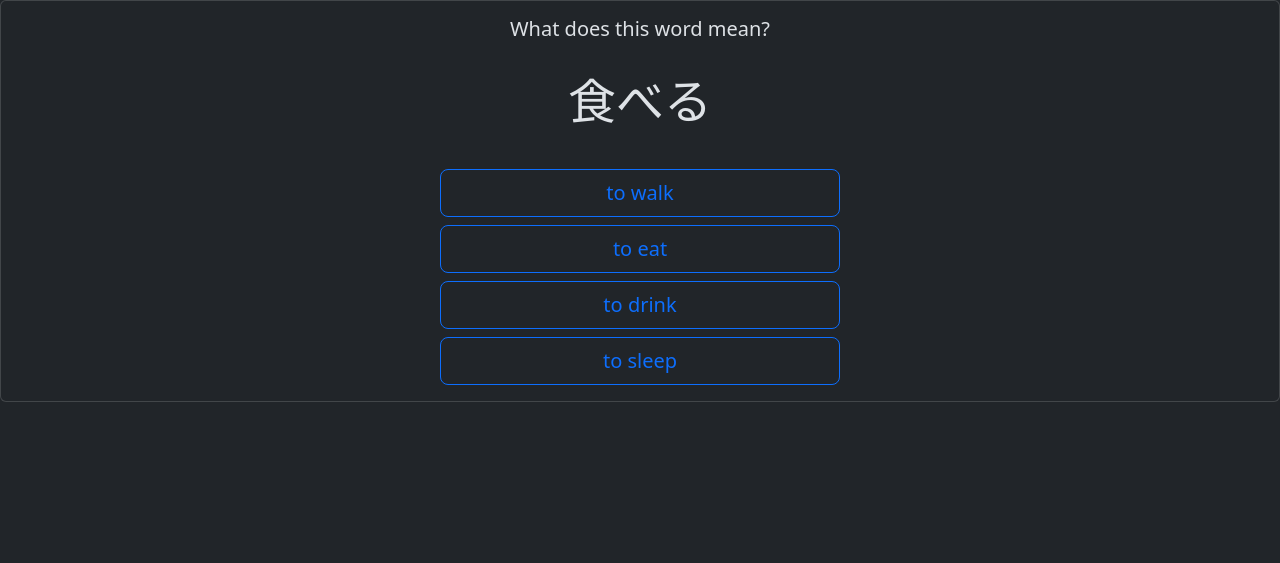
KanjiQuiz › shows error feedback for incorrect answer
The width and height of the screenshot is (1280, 563).
# Find and click an incorrect answer
Click the button "to drink" at coordinates (640, 305), box [440,281,840,329]
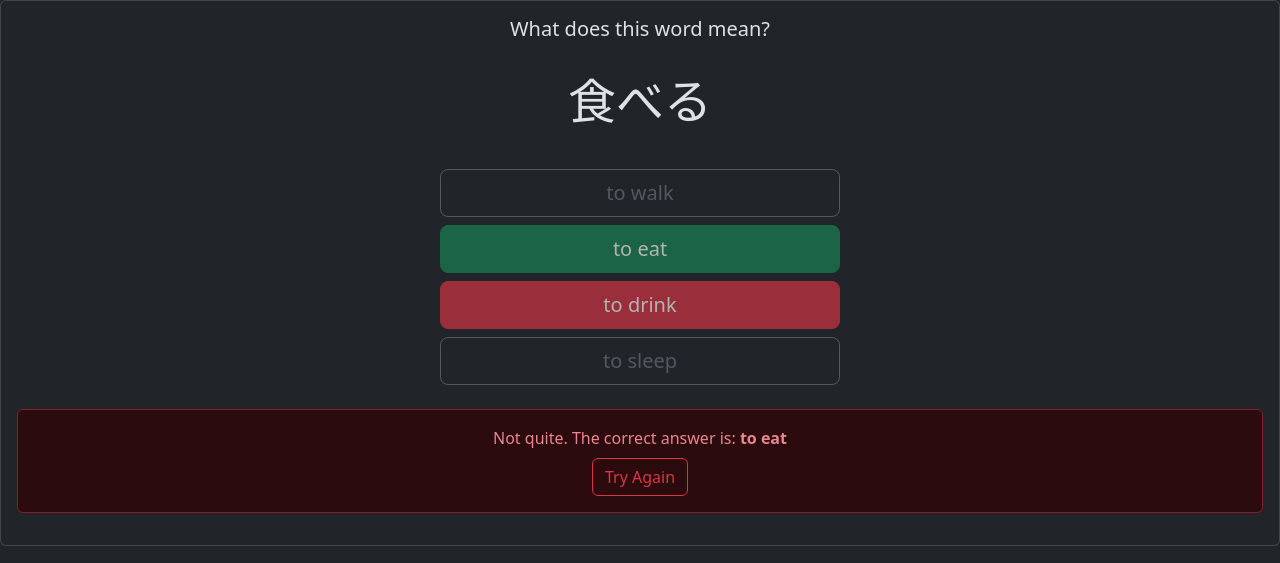
Check: the message with test id "quiz-feedback" shows "Not quite", box [493,427,740,449]
Check: the message with test id "quiz-feedback" shows "to eat", box [740,427,787,449]
